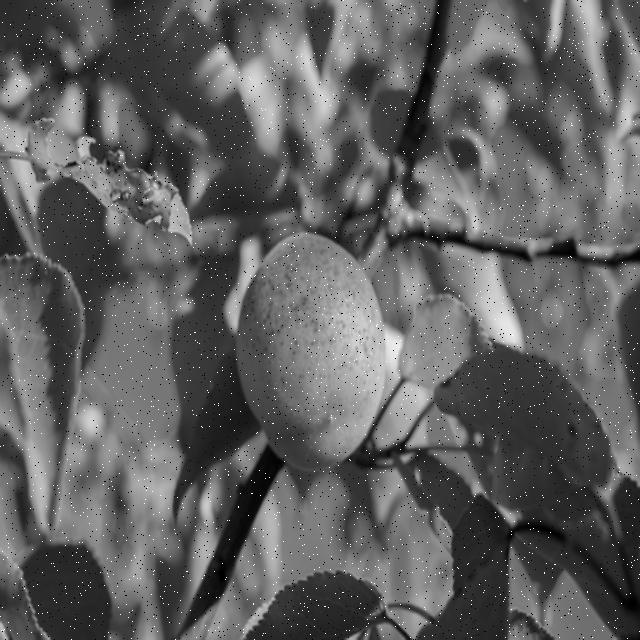kayisi: (245, 234, 383, 474)
yaprak: (418, 300, 612, 541), (13, 106, 182, 256), (2, 251, 84, 519), (7, 522, 134, 640), (125, 3, 238, 132), (529, 11, 637, 119), (242, 594, 463, 640)
